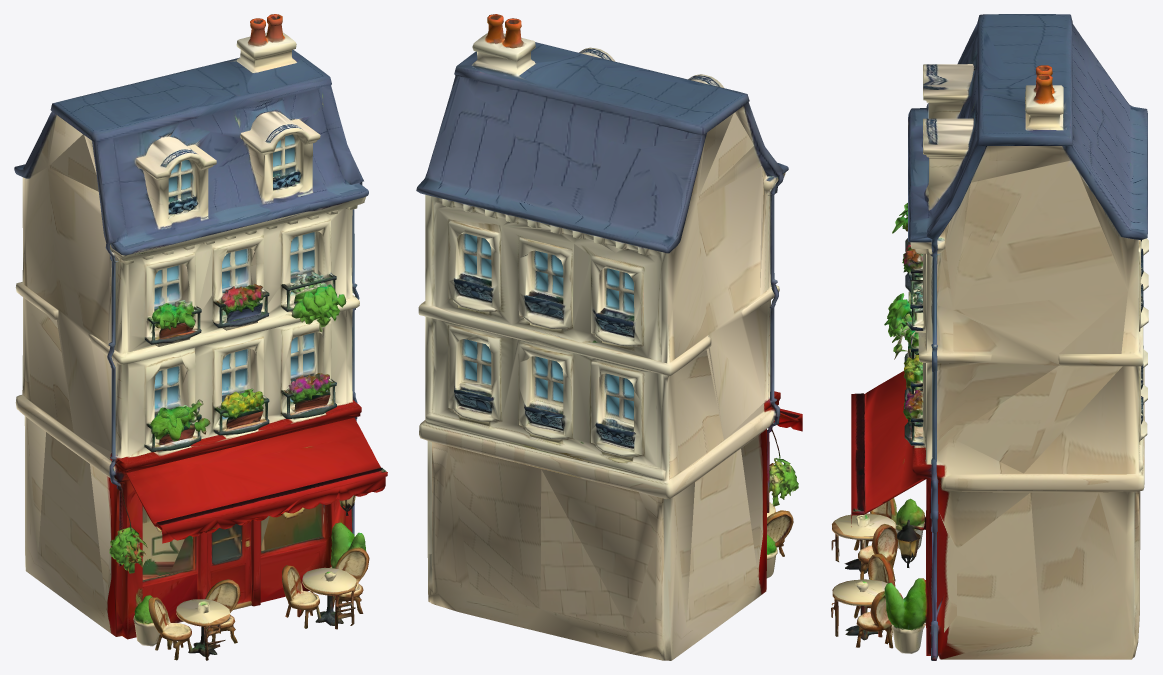
Rendered from brasserie.glb.
The picture shows the model from 3 angles, left to right: view 1: azimuth 30°, elevation 25°; view 2: azimuth 150°, elevation 25°; view 3: azimuth 270°, elevation 25°; orthographic projection. The views are drawn at different scales.
Visible parts, largest first — view 1: Mesh_0; view 2: Mesh_0; view 3: Mesh_0.
Part boxes in pixels (left/top/right/bottom): Mesh_0: left=14, top=14, right=387, bottom=660; Mesh_0: left=416, top=14, right=802, bottom=660; Mesh_0: left=831, top=14, right=1148, bottom=660.
Size of the model in its own units: 0.9743 by 1.9 by 0.9595.
Materials: 1 (1 with a texture image).
